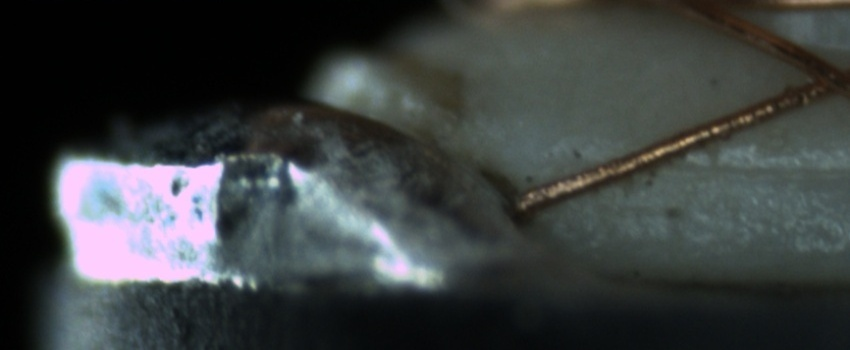CL: (778, 43, 848, 109)
DL: (628, 137, 850, 197)
